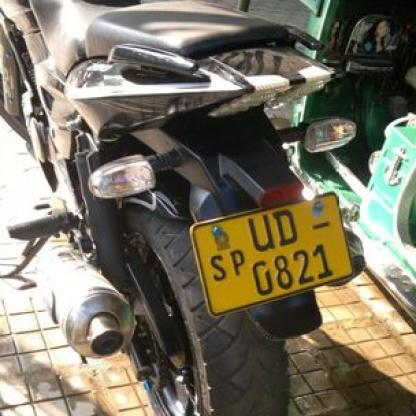bike back: (0, 0, 375, 406)
number plate: (210, 204, 336, 304)
